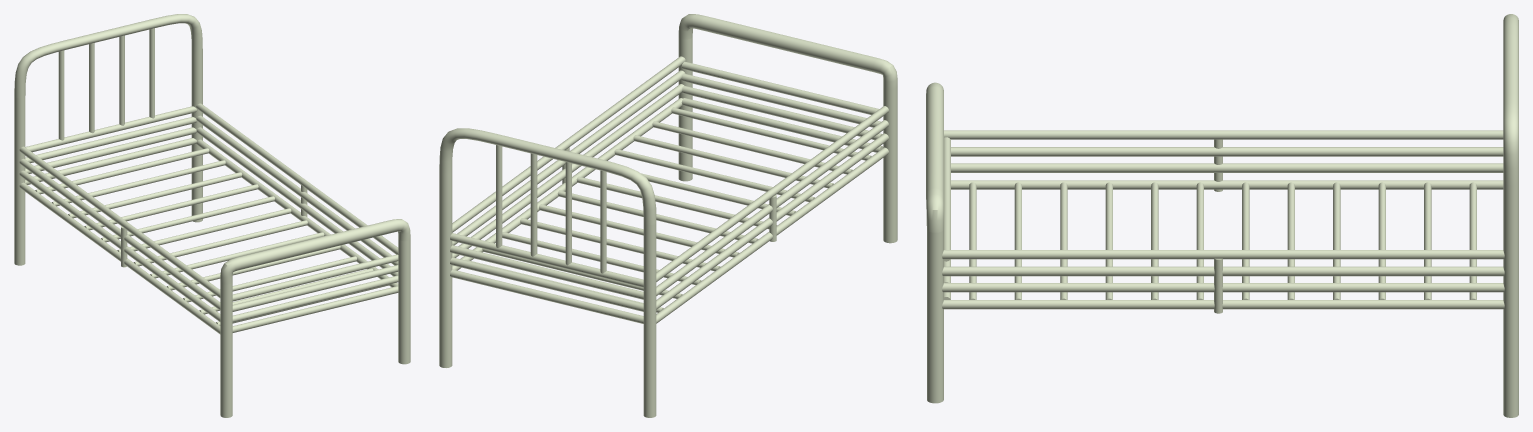
Rendered from bedframe.fbx.
The picture shows the model from 3 angles, left to right: view 1: azimuth 30°, elevation 25°; view 2: azimuth 150°, elevation 25°; view 3: azimuth 270°, elevation 25°; orthographic projection. The views are drawn at different scales.
Parts seen in each view (by area): view 1: Cylinder.002; view 2: Cylinder.002; view 3: Cylinder.002.
Boxes of the visible parts, x1,y1,x2,y2 form: Cylinder.002: (14, 14, 410, 417); Cylinder.002: (439, 14, 897, 417); Cylinder.002: (926, 14, 1518, 417).
Size of the model in its own units: 478 by 511 by 938.
